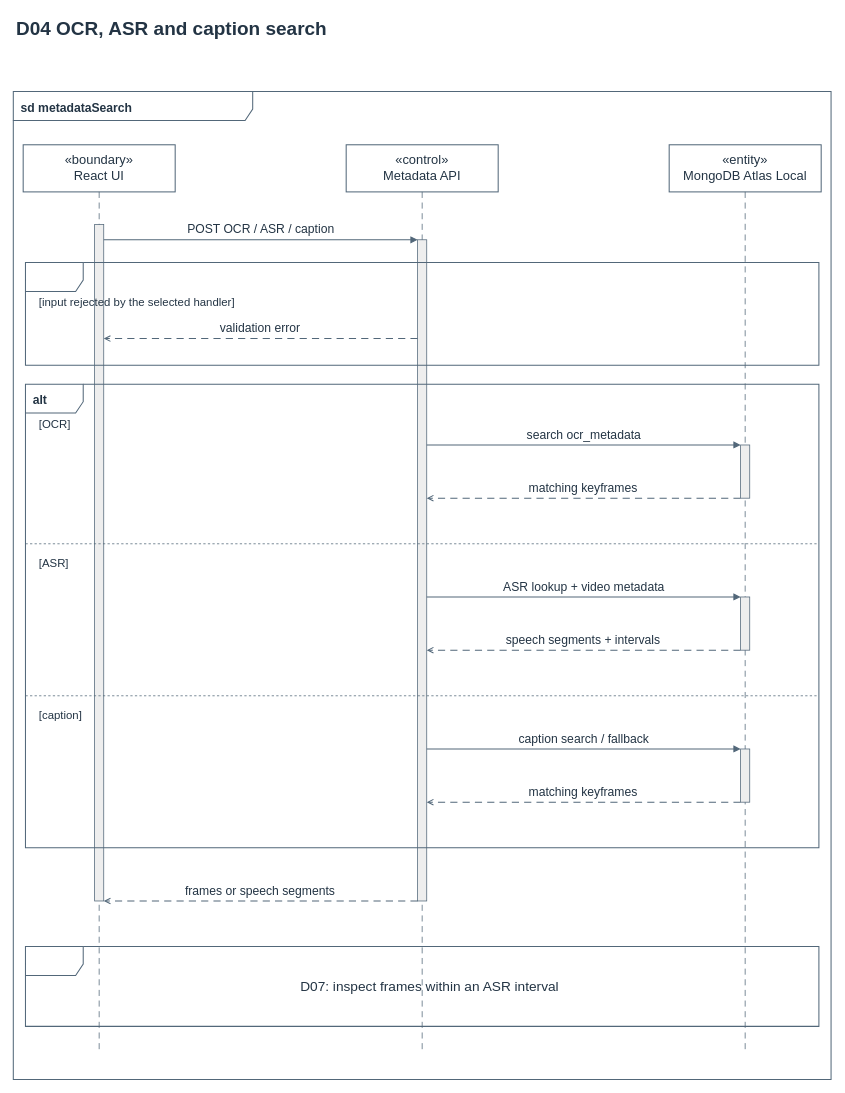
This 845x1093 diagram has some shape labels left out. The shapes that lost their labels are listed below. From the top down, each one's box as (x1, y1, x2, y2) in pixels, then its label:
(25, 262, 819, 365): break
(25, 946, 819, 1027): ref
